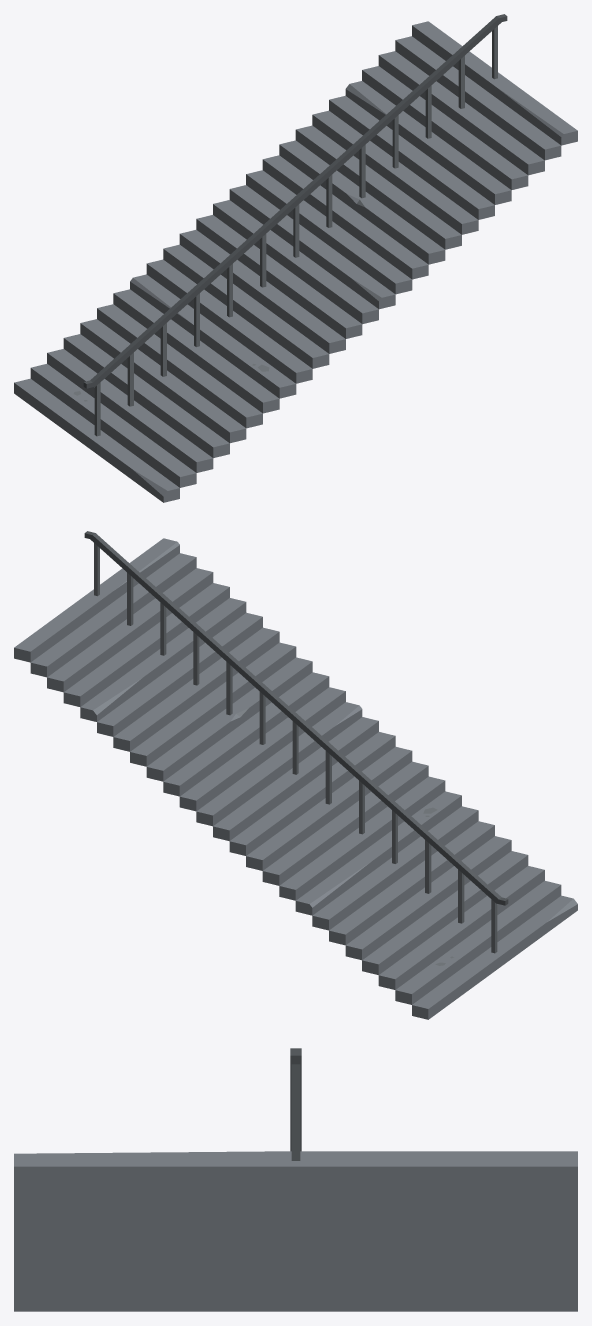
Rendered from Stairs_01.fbx.
3 views of the same model, one above another, from view 1: azimuth 30°, elevation 25°; view 2: azimuth 150°, elevation 25°; view 3: azimuth 270°, elevation 25° (orthographic). The views are drawn at different scales.
Parts seen in each view (by area): view 1: Stairs_01; view 2: Stairs_01; view 3: Stairs_01.
Part boxes in pixels (bbox=[...]): Stairs_01: bbox=[14, 14, 577, 502]; Stairs_01: bbox=[14, 531, 577, 1019]; Stairs_01: bbox=[14, 1048, 577, 1311].
Bounding box in the file's own units: 812 × 611 × 500.
